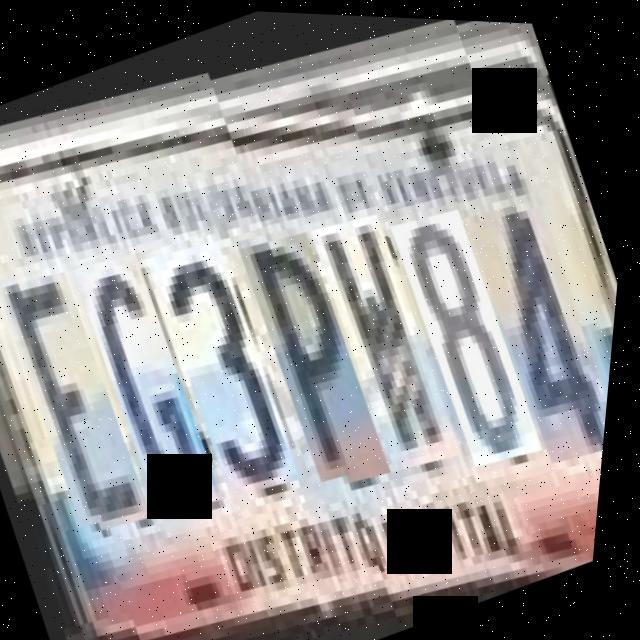3: (132, 223, 323, 500)
4: (443, 165, 630, 449)
8: (371, 180, 558, 455)
E: (0, 259, 175, 542)
G: (58, 240, 245, 520)
P: (221, 207, 409, 482)
W: (291, 186, 479, 461)
